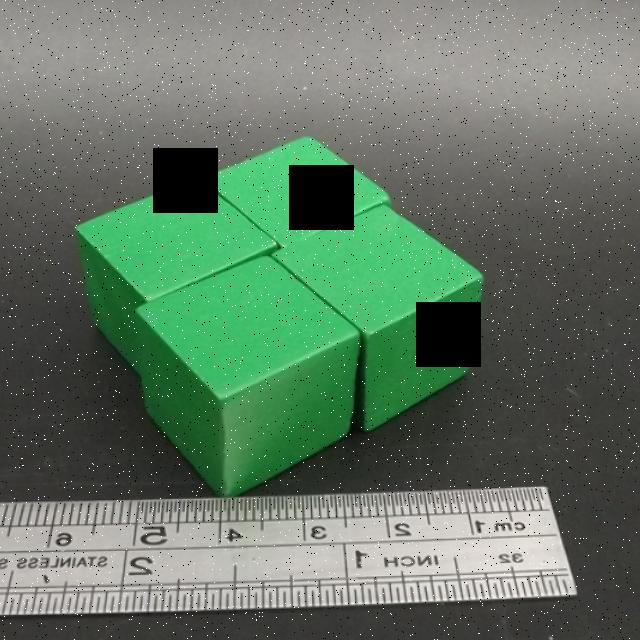green cube: (136, 256, 363, 498), (268, 204, 485, 433), (76, 178, 278, 374), (201, 134, 394, 248)
